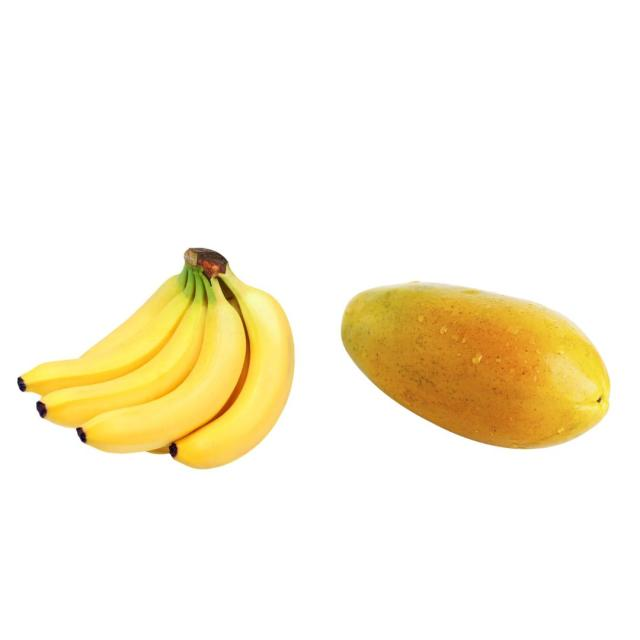Pepaya: (340, 279, 611, 450)
Pisang: (17, 246, 294, 470)
